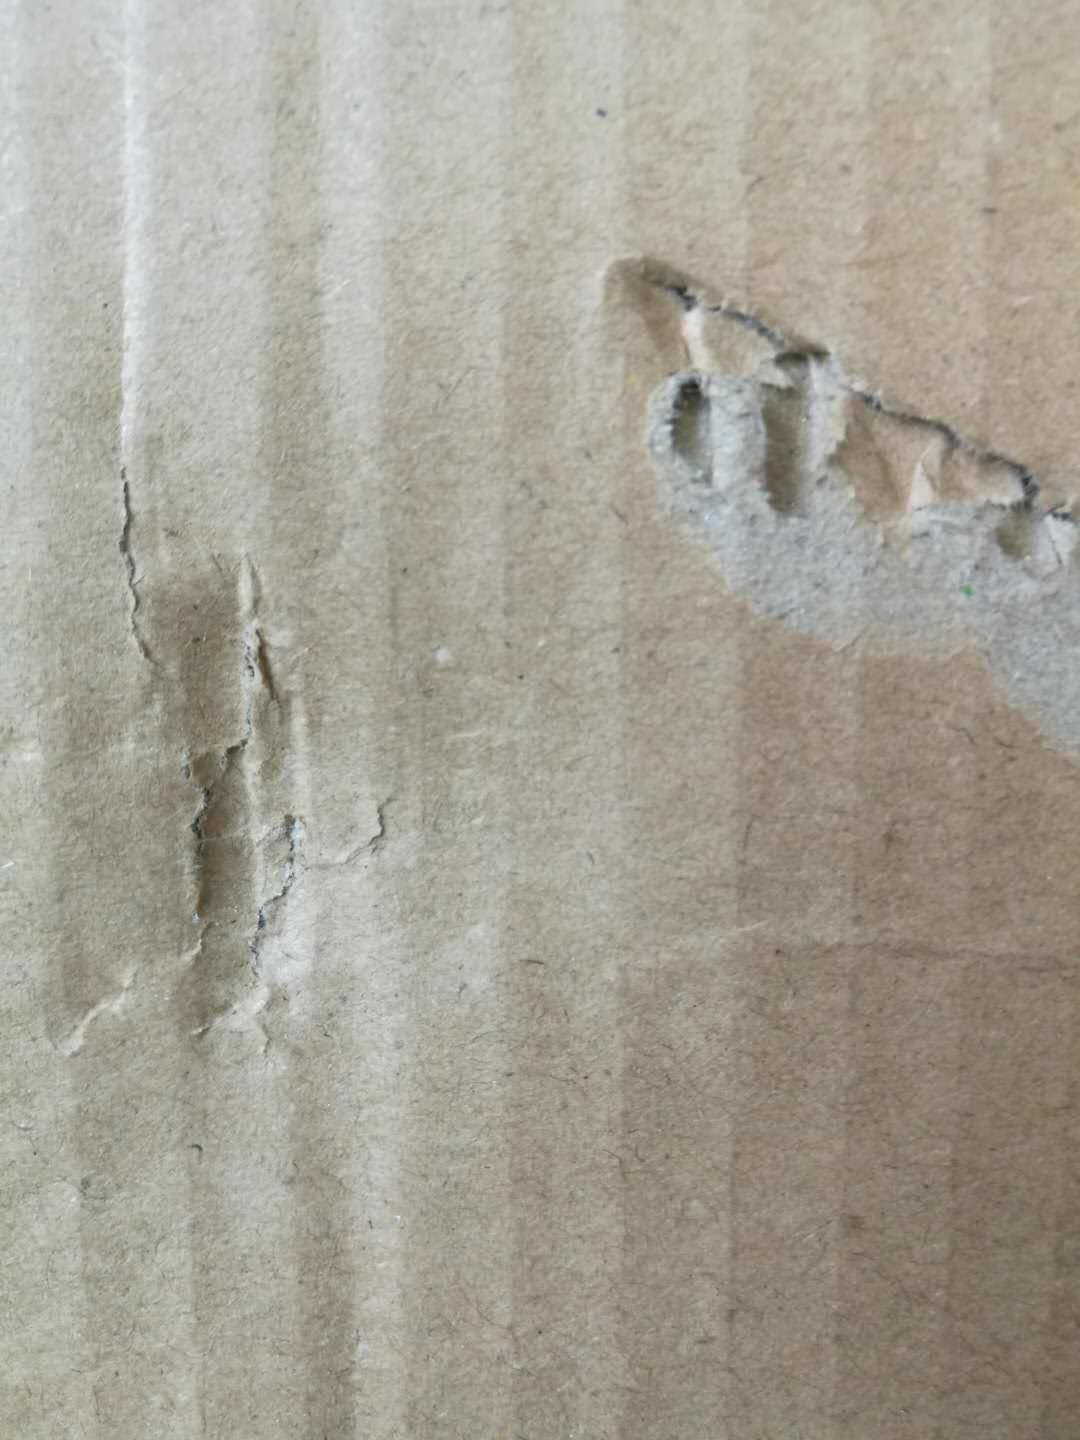defect: (9, 421, 503, 1167), (539, 205, 1080, 798)
